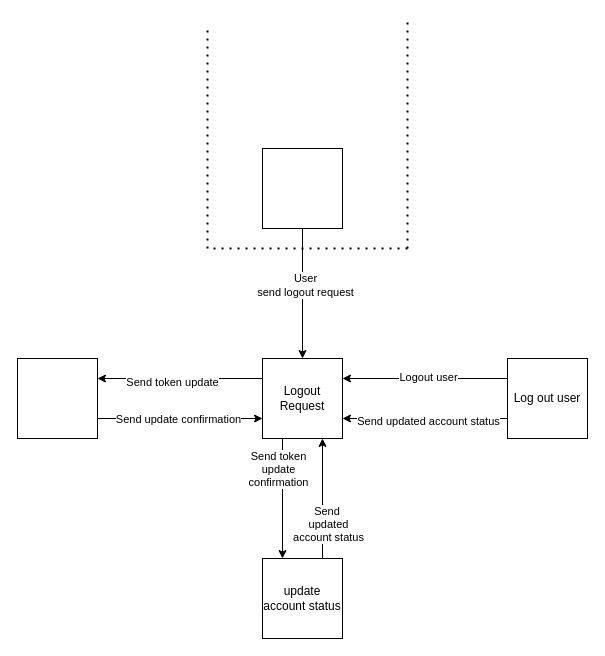
Image size: 605x656. Some labels were removed from this diagram. Here are the shapes that lost their labels. From the top down, the centre of each, then its label:
At (x=302, y=188): "User".
At (x=57, y=398): "Update token".
